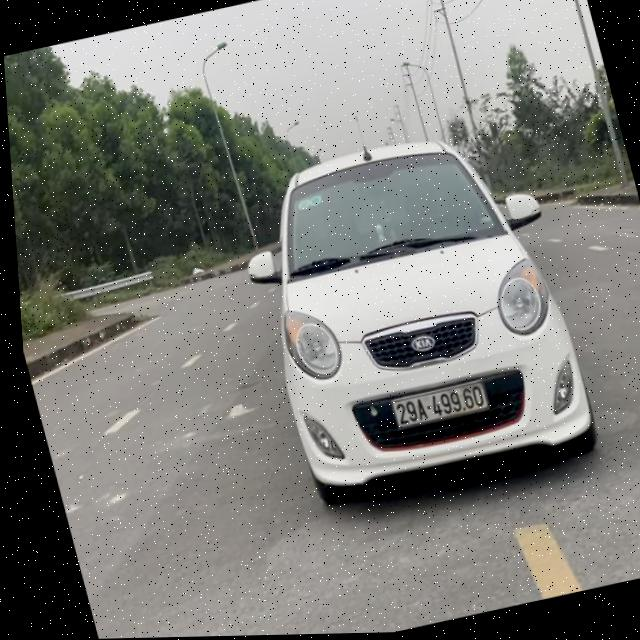car: (221, 117, 605, 519)
plate: (385, 374, 498, 435)
